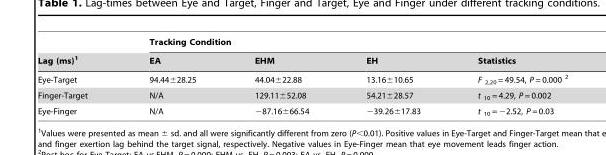table: (37, 37, 567, 116)
table column: (448, 37, 567, 116), (224, 37, 336, 116), (336, 37, 448, 116), (117, 37, 224, 116), (37, 37, 117, 116)
table column header: (37, 37, 567, 69)
table row: (37, 50, 567, 69), (37, 69, 567, 87), (37, 87, 567, 103), (37, 37, 567, 50), (37, 103, 567, 116)
table spanning cell: (117, 37, 567, 50), (37, 37, 117, 69)
